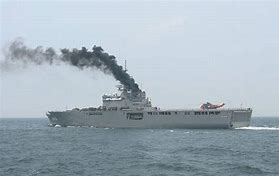smoke: (2, 39, 143, 91)
